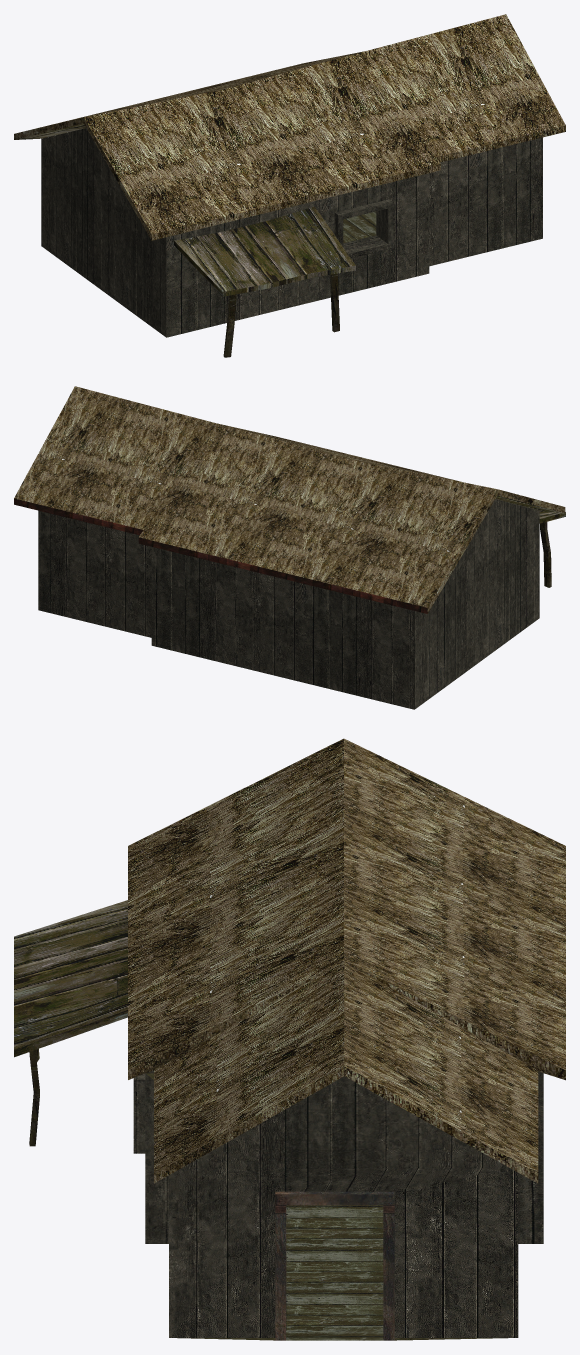
The model's file is schronienie15.glb.
3 views of the same model, one above another, from view 1: azimuth 30°, elevation 25°; view 2: azimuth 150°, elevation 25°; view 3: azimuth 270°, elevation 25° (orthographic). The views are drawn at different scales.
Parts seen in each view (by area): view 1: zengin01; view 2: zengin01; view 3: zengin01.
Part boxes in pixels (x1,y1,x2,y2): zengin01: [14, 14, 565, 357]; zengin01: [14, 386, 565, 709]; zengin01: [14, 738, 565, 1340].
Bounding box in the file's own units: 12.26 × 4.98 × 8.72.
12 materials, 11 textured.
